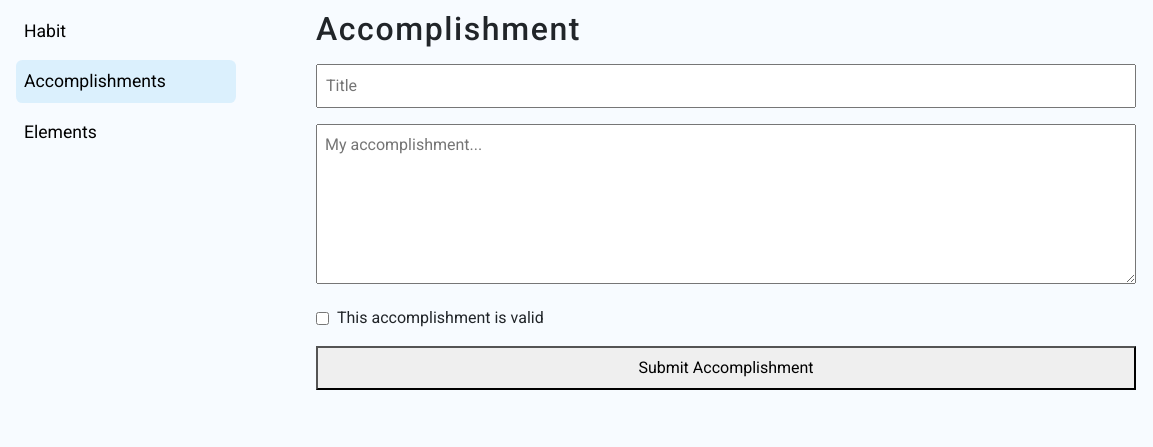
Test case: Accomplishments Tests › Should showcase error if text is missing
This screenshot has width=1153, height=447.
Type "test321" into the text box with placeholder "My accomplishment...". click: (726, 204)
box: [316,124,1136,284]
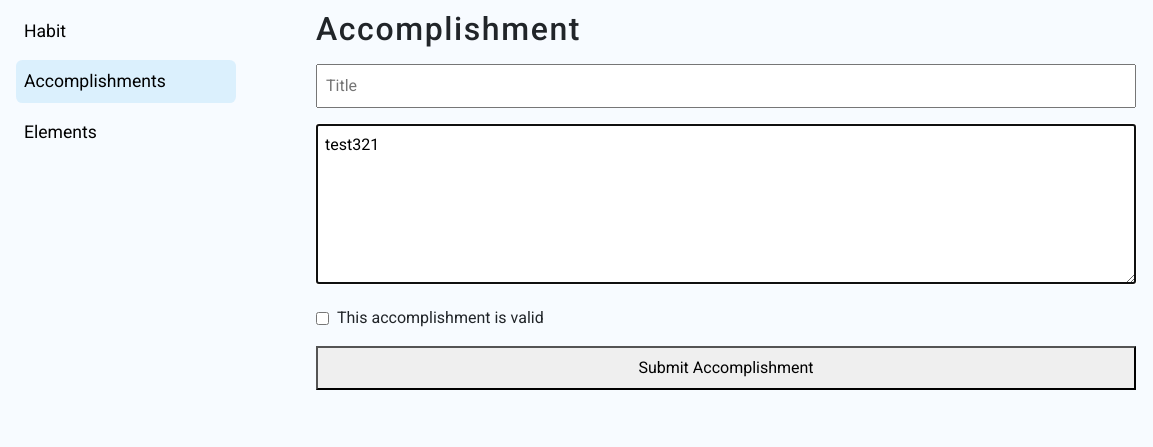
Click the checkbox. click: click(323, 319)
box: [316,312,329,325]
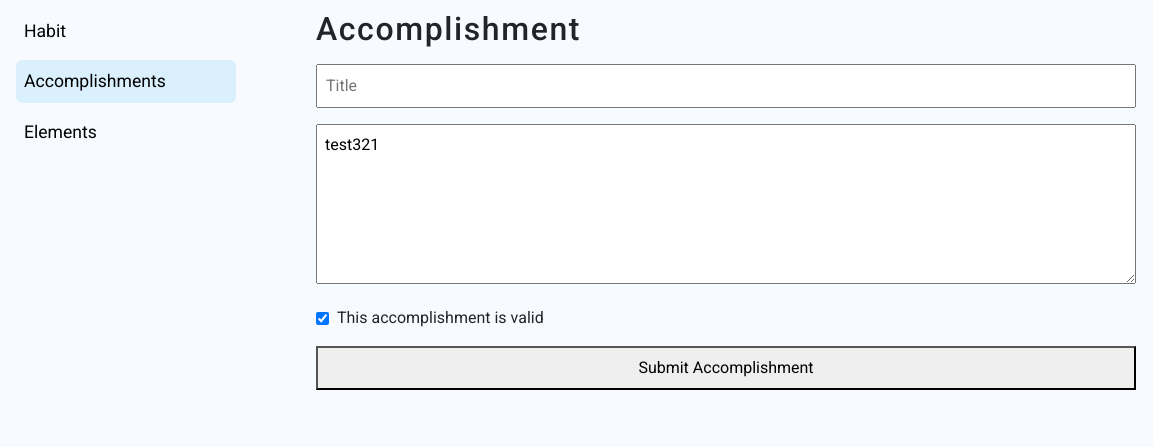
Click the button "Submit Accomplishment". click: click(726, 368)
box: [316,346,1136,390]
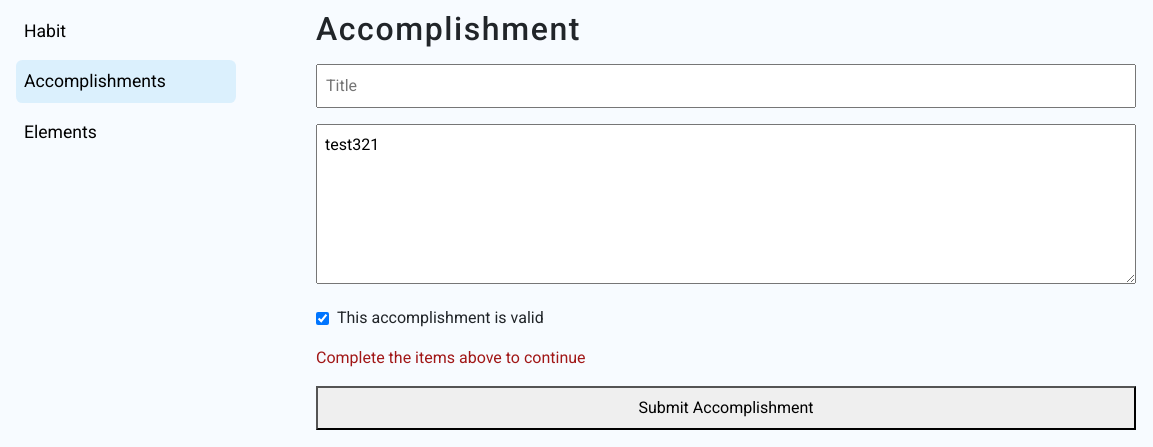
Result: the text "Complete the items above to continue" is shown at [316,348,586,367]
